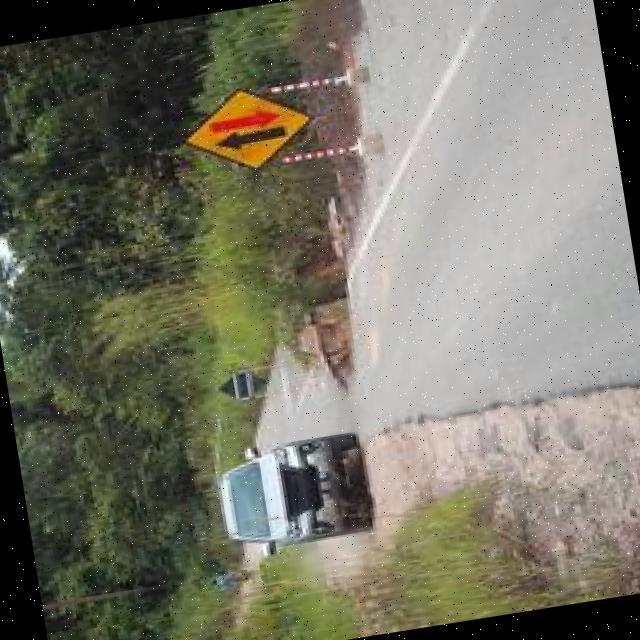road collapse: (140, 0, 556, 435)
